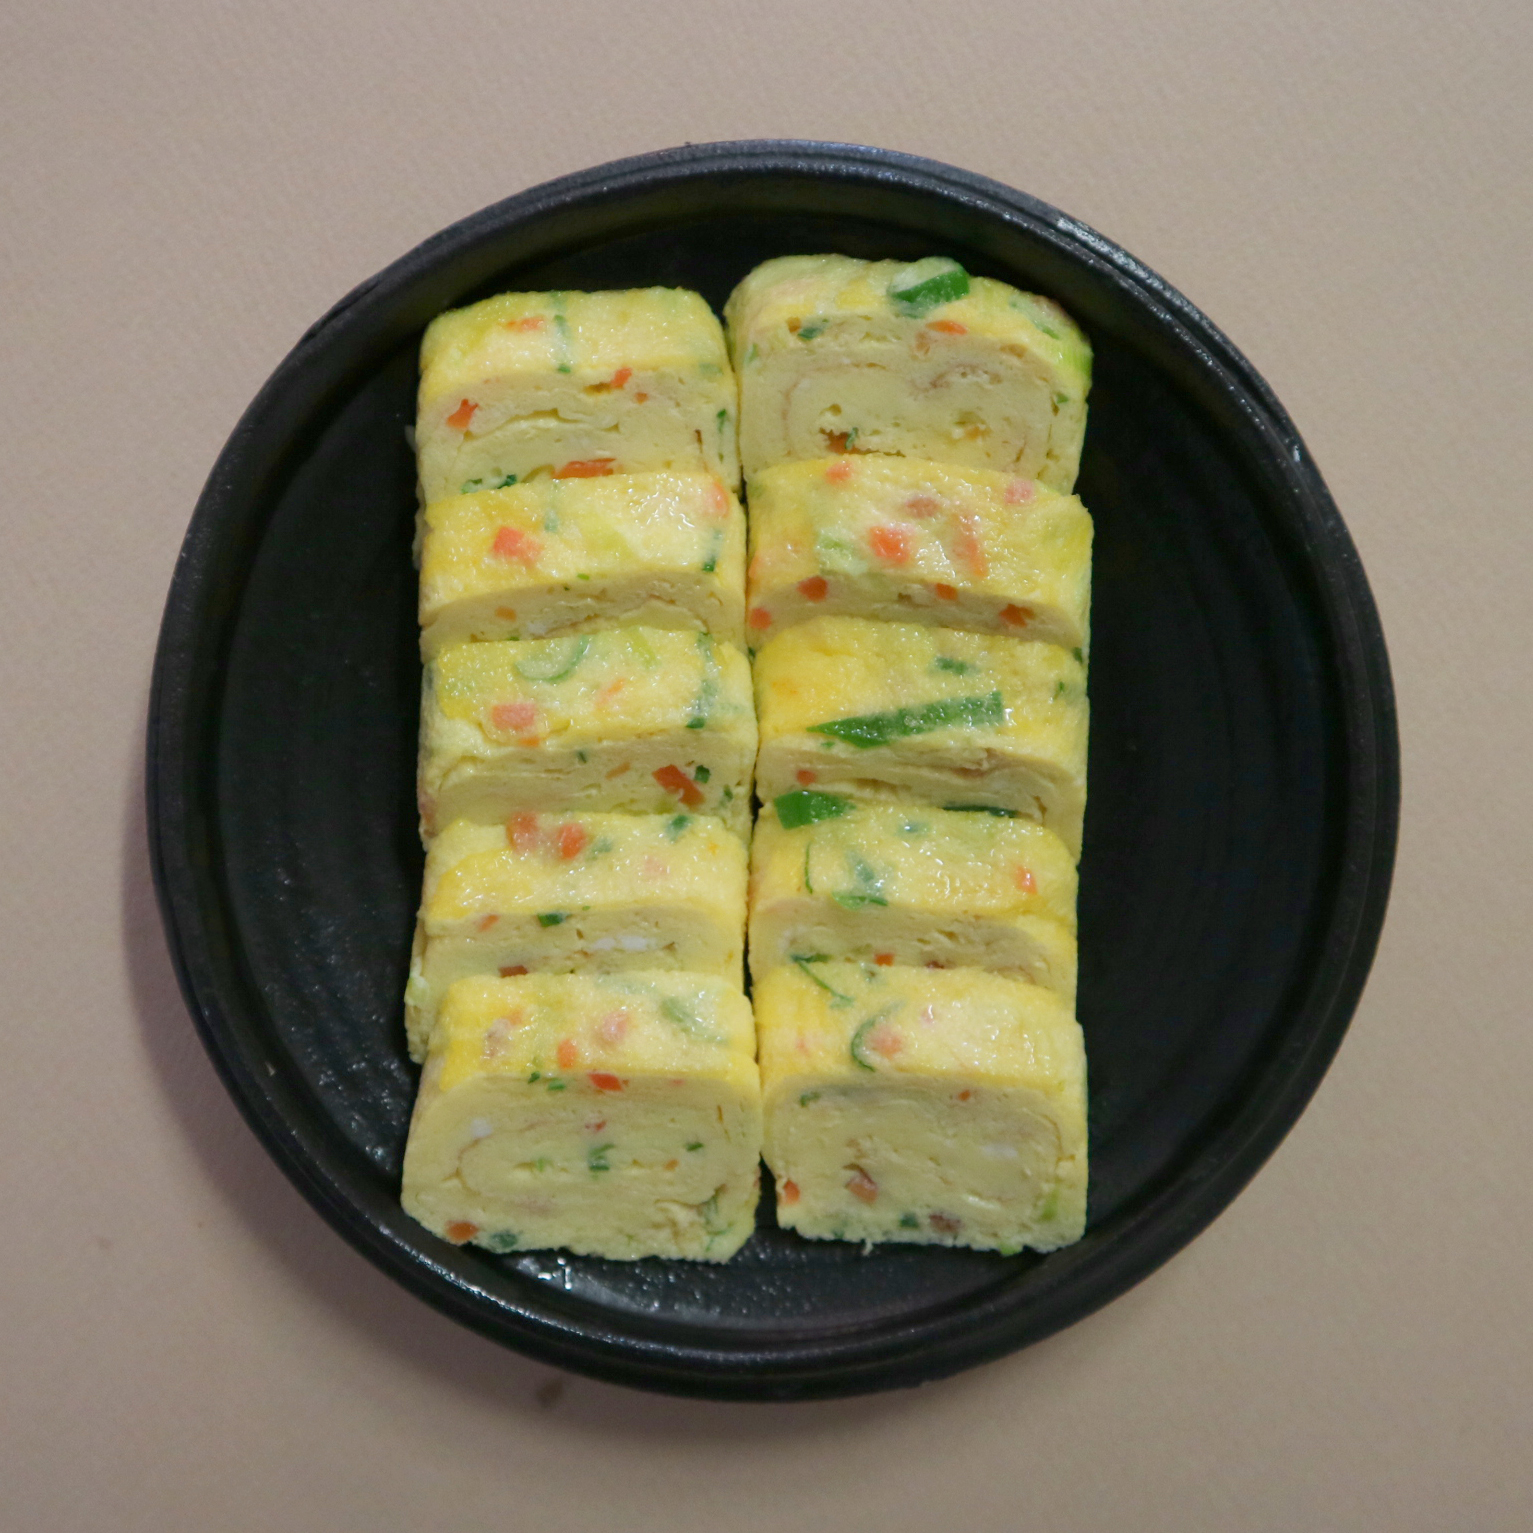gyelanmal-i: (378, 246, 1120, 1321)
